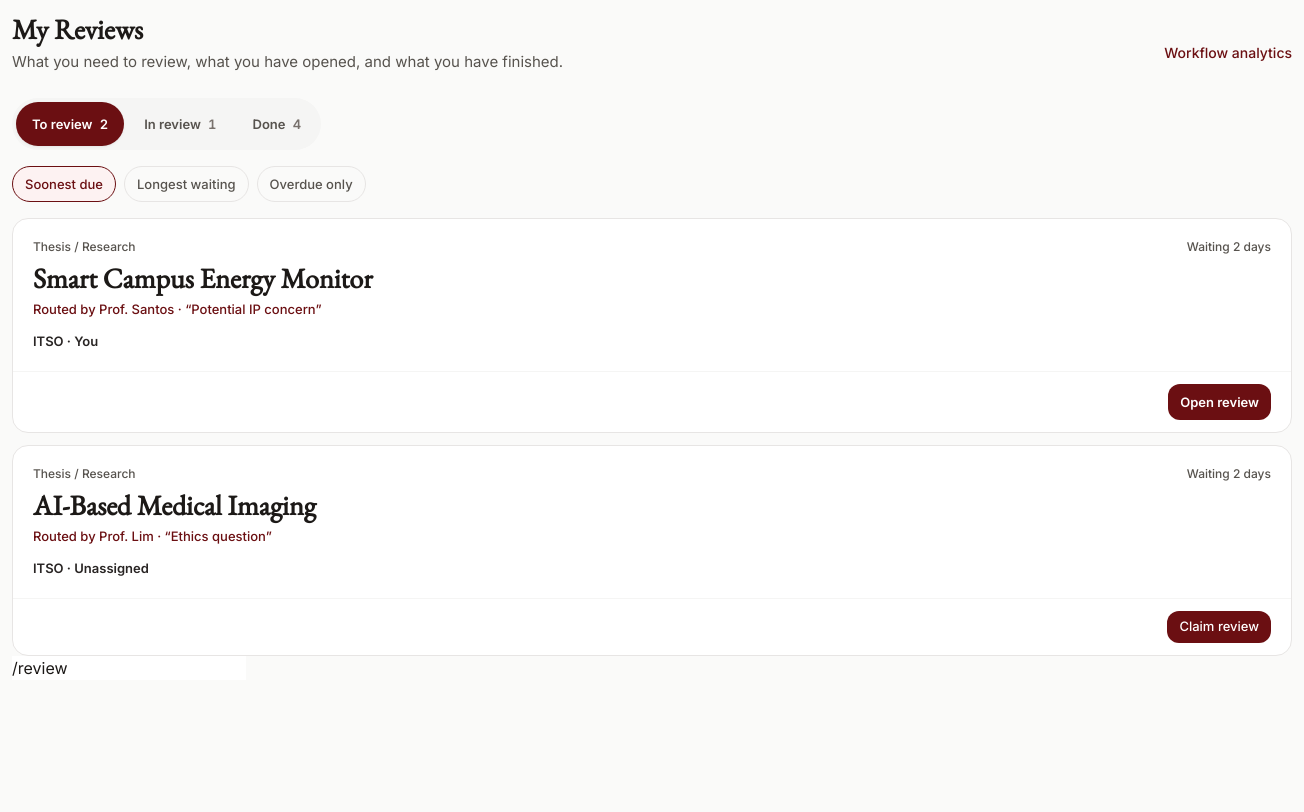
Test: MyReviewsPage › announces nothing when the refetch after a claim fails
Step 1. Click the button with aria-label "Claim review: AI-Based Medical Imaging" → [1219, 627], box [1167,611,1271,642]
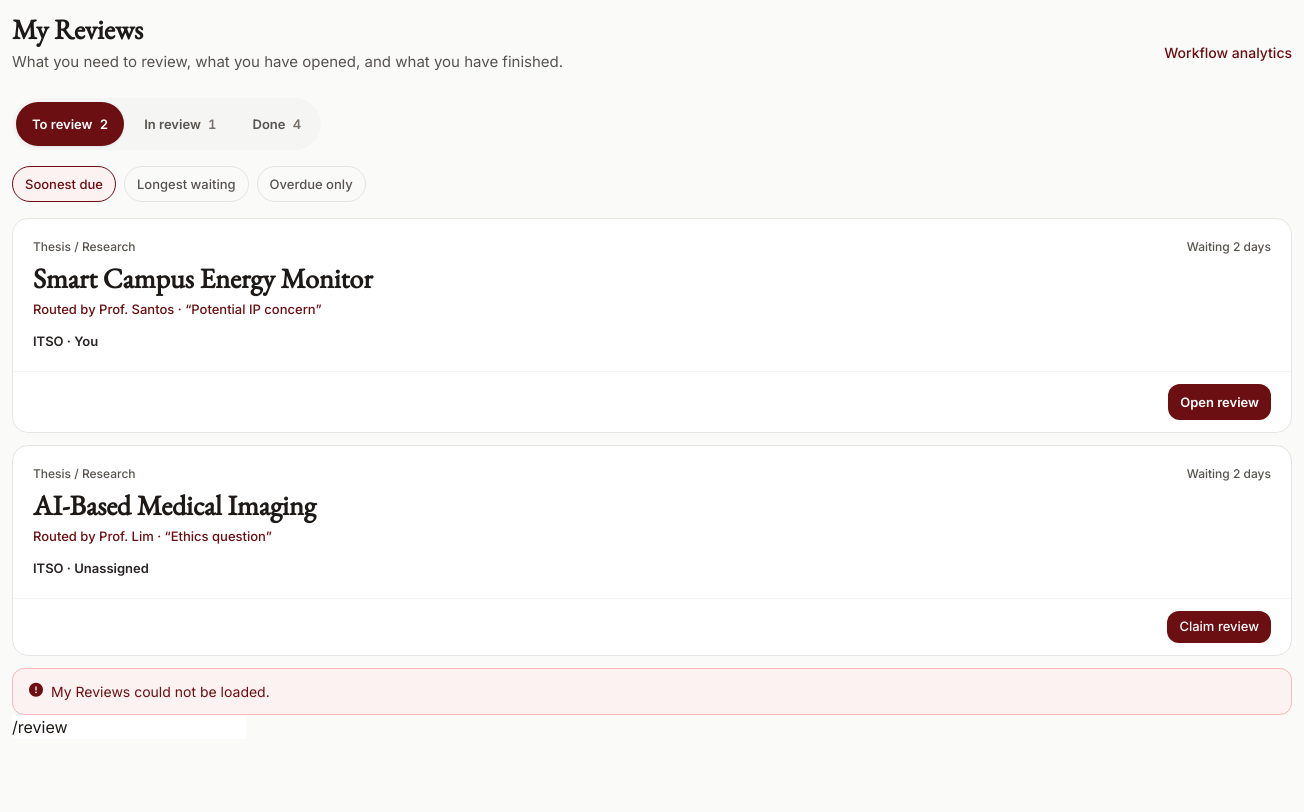
expect the message reads "My Reviews could not be loaded.": met, box [51,682,270,700]
